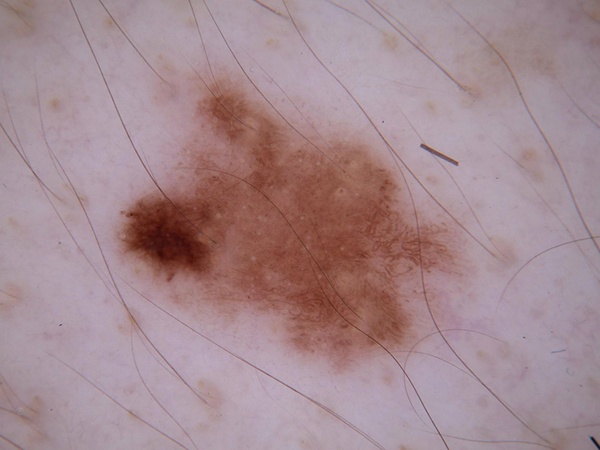Detected Lesion: (118, 75, 463, 376)
